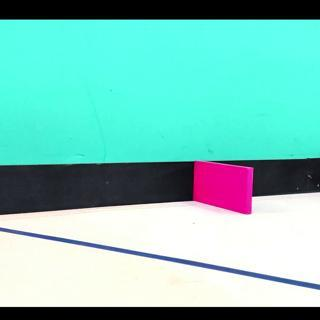xparking: (197, 169, 249, 216)
